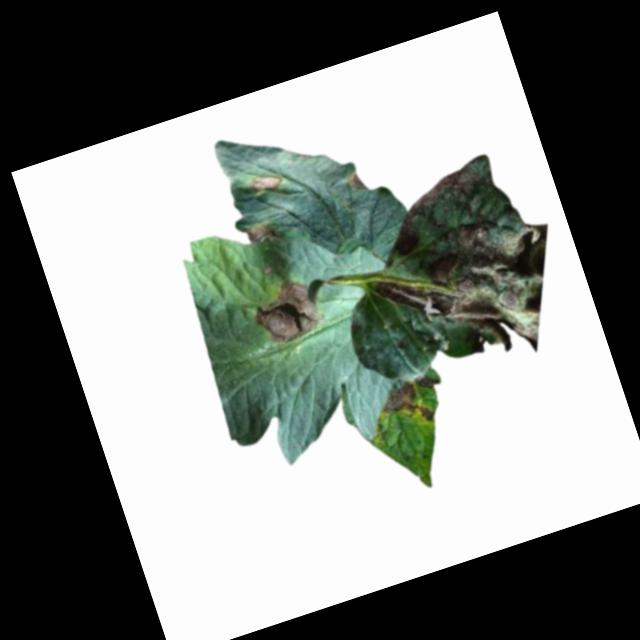Early_blight: (344, 141, 581, 393), (248, 272, 327, 351), (375, 375, 436, 436), (243, 214, 282, 246), (247, 166, 283, 194), (343, 165, 371, 195), (413, 368, 441, 393)
